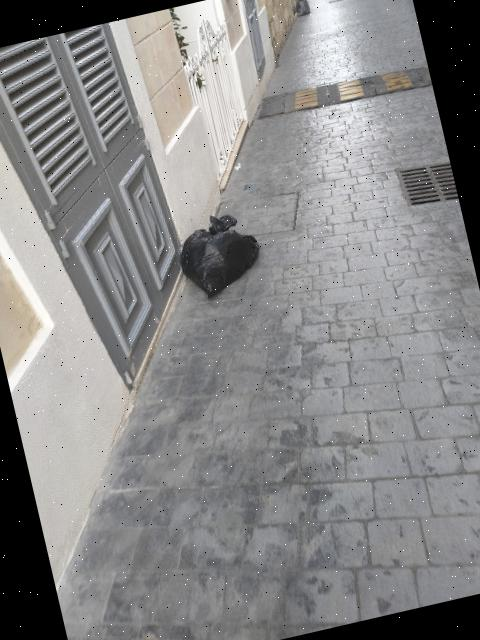Mixed -Black-: (180, 215, 259, 297)
